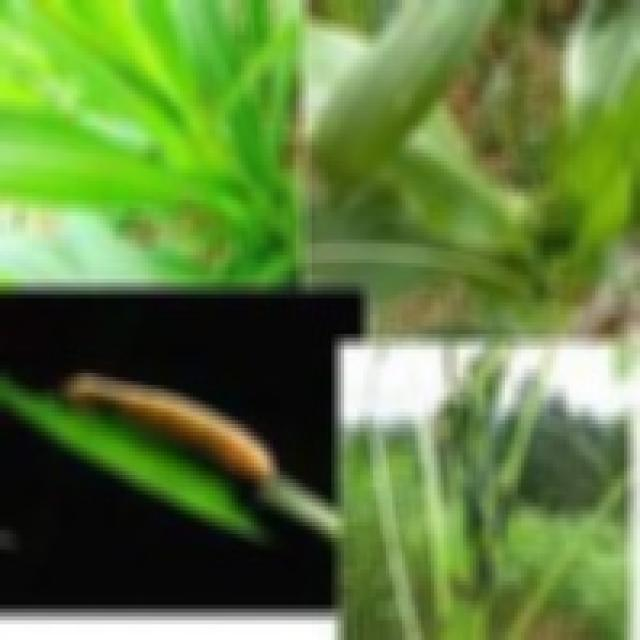army worm: (422, 351, 532, 610), (56, 364, 287, 486)
